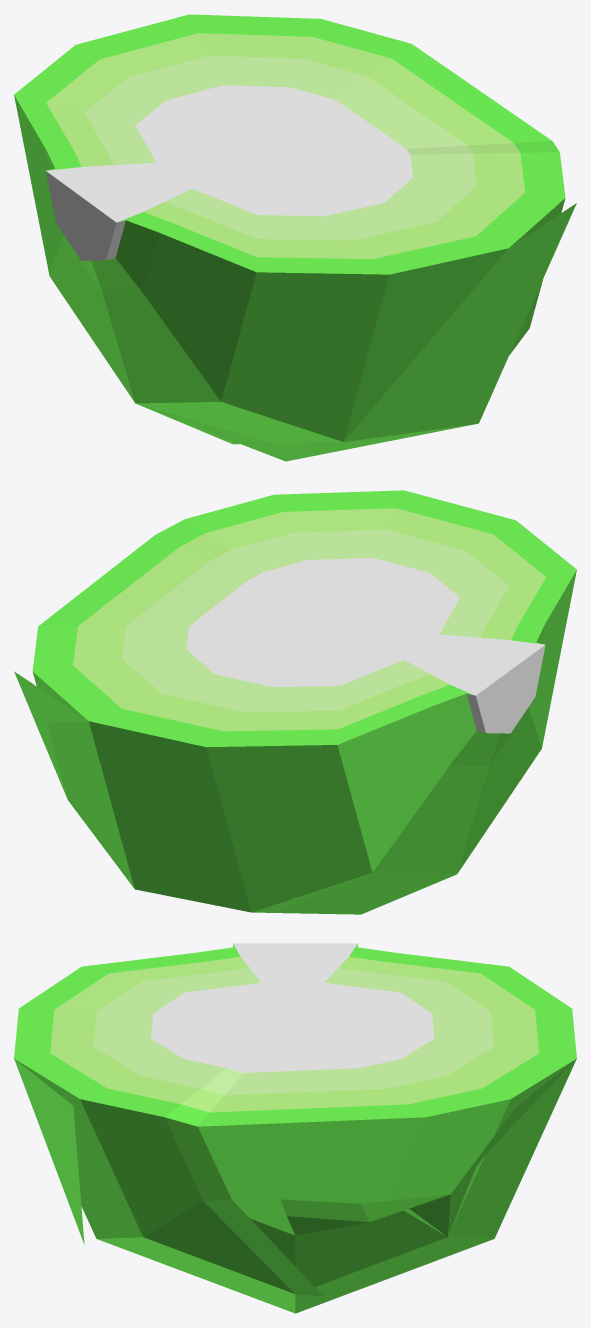
The model's file is cabbage02.gltf.
3 renders of one model, top to bottom at view 1: azimuth 30°, elevation 25°; view 2: azimuth 150°, elevation 25°; view 3: azimuth 270°, elevation 25°, orthographic. The views are drawn at different scales.
Visible parts, largest first — view 1: Cylinder; view 2: Cylinder; view 3: Cylinder.
Part boxes in pixels (x1=…): Cylinder: x1=14, y1=14, x2=576, y2=461; Cylinder: x1=14, y1=490, x2=576, y2=914; Cylinder: x1=14, y1=943, x2=576, y2=1313.
Size of the model in its own units: 0.1439 by 0.0929 by 0.1858.
1 material, 1 textured.
